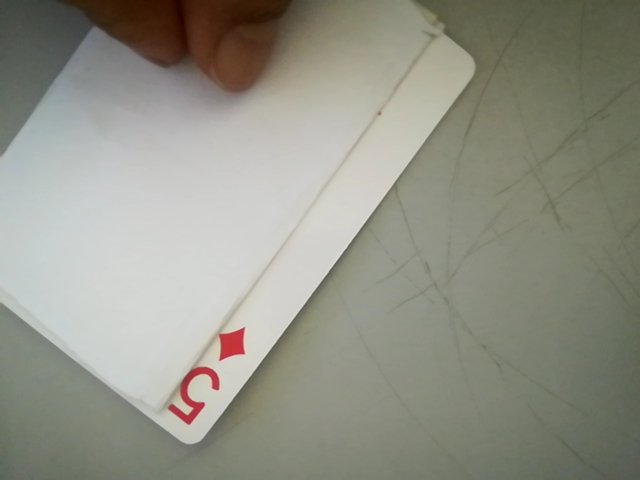fk 5: (161, 321, 257, 437)
